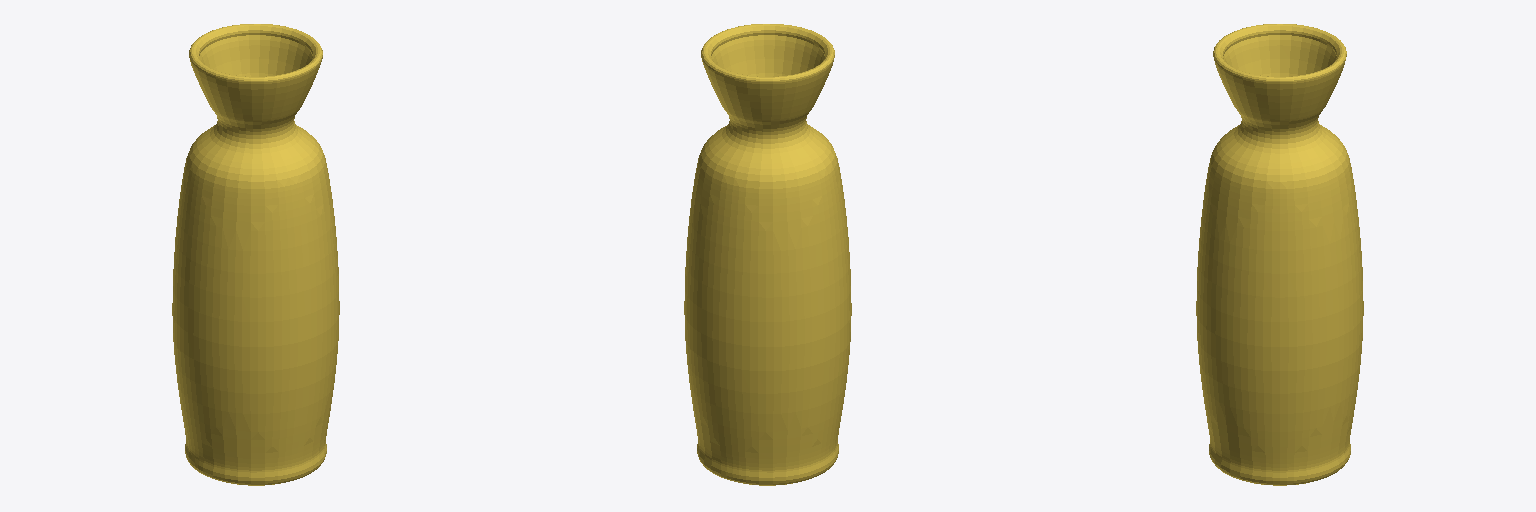
The model's file is jarron.obj.
3 views of the same model, side by side, from view 1: azimuth 30°, elevation 25°; view 2: azimuth 150°, elevation 25°; view 3: azimuth 270°, elevation 25° (orthographic).
Visible parts, largest first — view 1: vase_2_; view 2: vase_2_; view 3: vase_2_.
Part boxes in pixels (x1,y1,x2,y2): vase_2_: (172, 24, 339, 485); vase_2_: (684, 24, 851, 485); vase_2_: (1196, 24, 1363, 485).
Size of the model in its own units: 9.33 by 25.28 by 9.33.